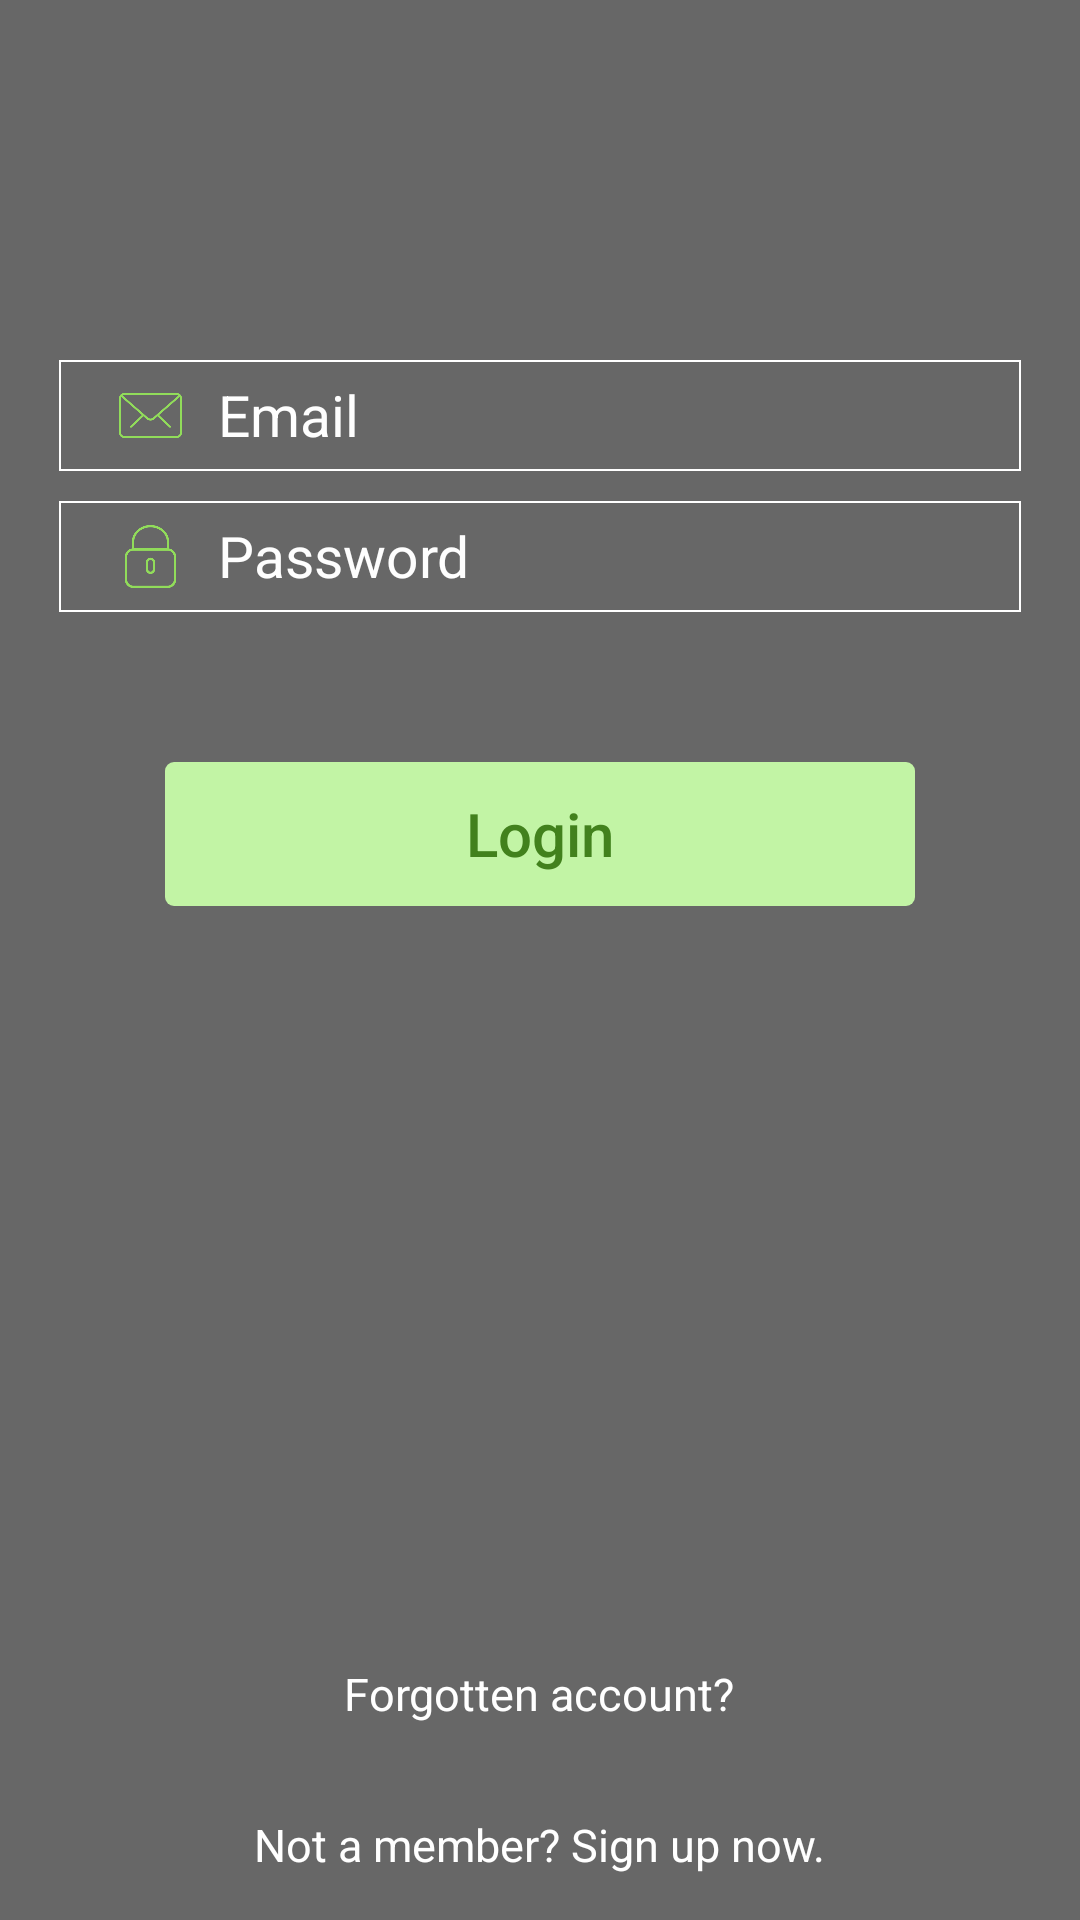

Icons on this 1080x1920 Android screen, each with its box as (x1, y1, x2, y2):
lock: (125, 525, 176, 588)
